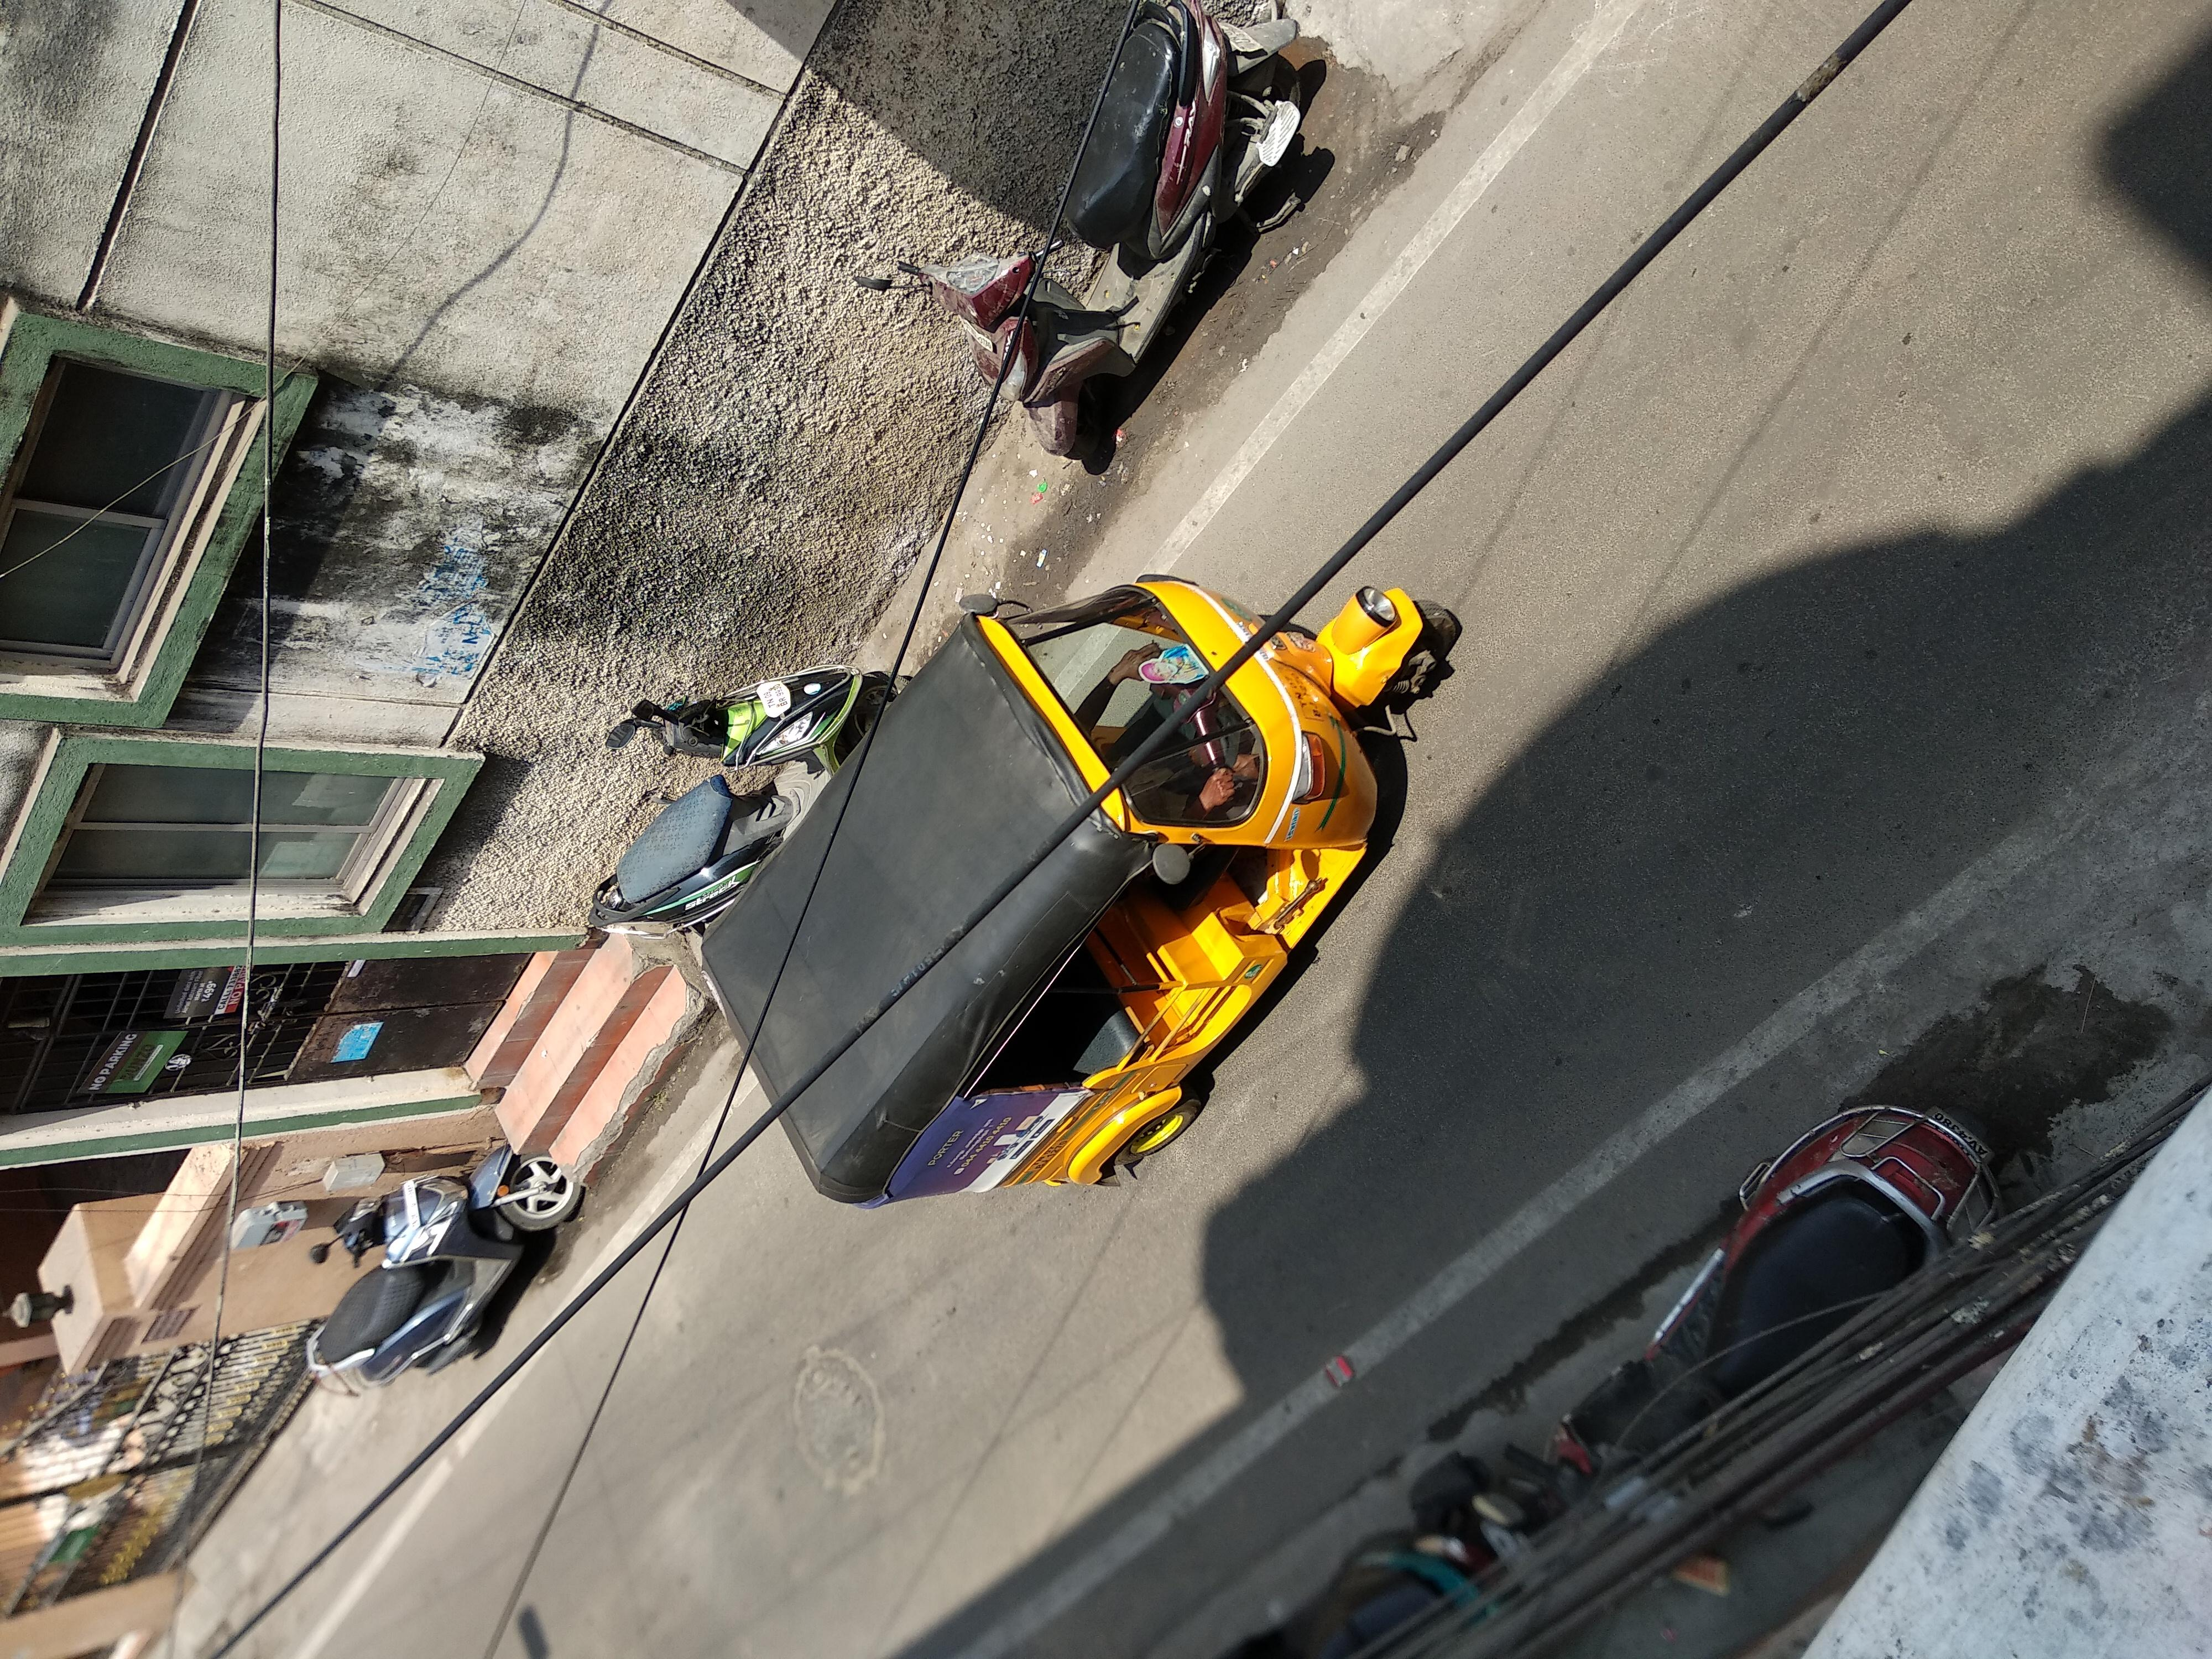Auto: (580, 519, 1479, 1075)
